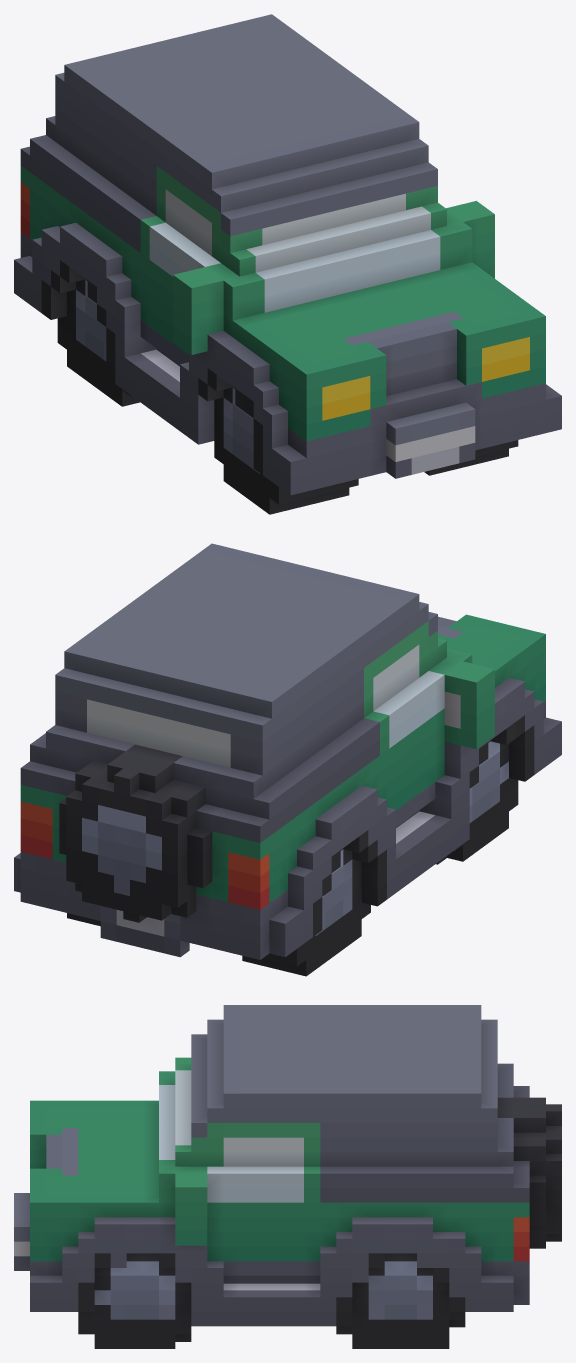
The model's file is suv.glb.
3 renders of one model, top to bottom at view 1: azimuth 30°, elevation 25°; view 2: azimuth 150°, elevation 25°; view 3: azimuth 270°, elevation 25°, orthographic. The views are drawn at different scales.
Parts seen in each view (by area): view 1: voxels; view 2: voxels; view 3: voxels.
Boxes of the visible parts, x1,y1,x2,y2 form: voxels: [14, 14, 561, 514]; voxels: [14, 543, 561, 976]; voxels: [14, 1005, 561, 1348].
Size of the model in its own units: 1.54 by 1.38 by 2.76.
